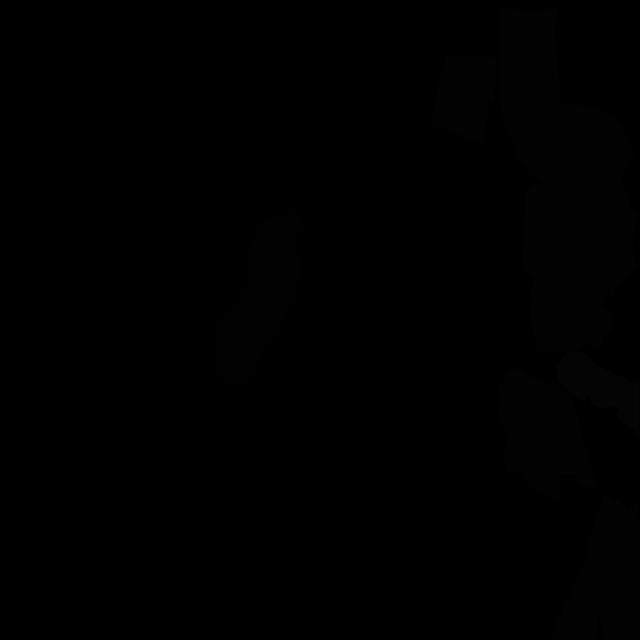cardboard: (499, 7, 639, 353), (548, 495, 640, 640), (497, 368, 598, 500), (430, 55, 498, 143), (600, 519, 640, 639)
rigid_plastic: (214, 207, 302, 390)
soft_plastic: (556, 351, 640, 441)
